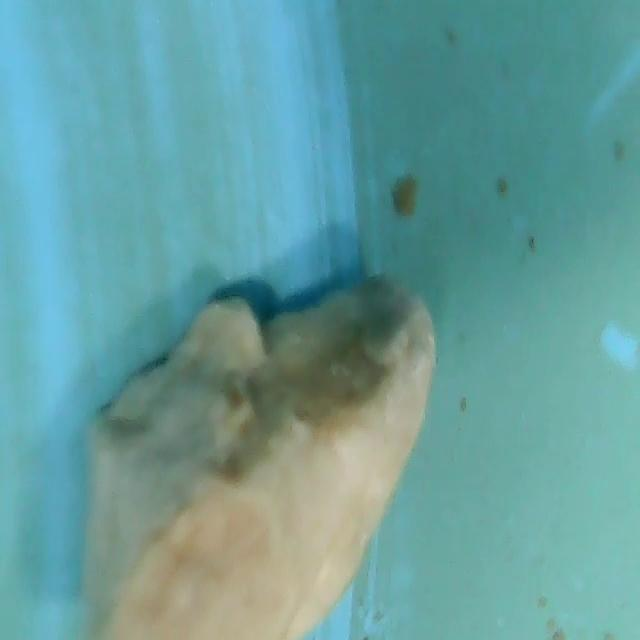rock: (64, 291, 438, 640)
